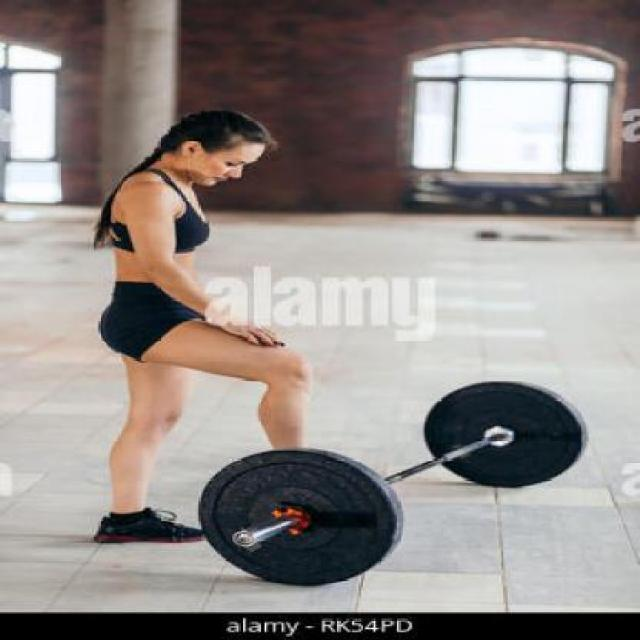Barbell: (219, 522, 272, 558)
